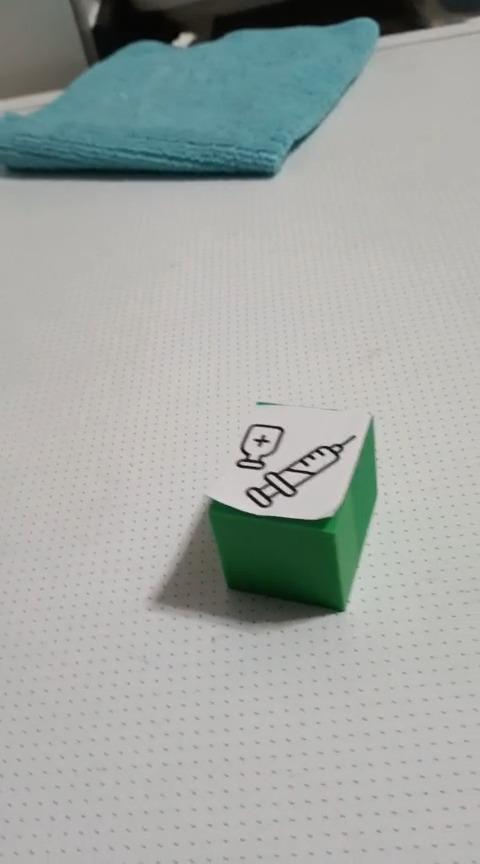antiseptic cream: (202, 399, 379, 612)
